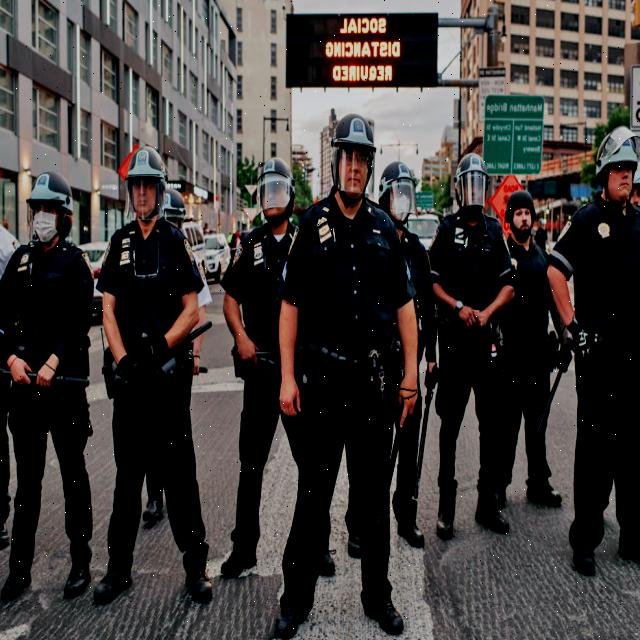police: (261, 100, 428, 640), (542, 99, 640, 588), (0, 149, 100, 579), (109, 137, 203, 552), (217, 156, 303, 593), (428, 145, 523, 524), (501, 178, 571, 526), (381, 148, 439, 549)
